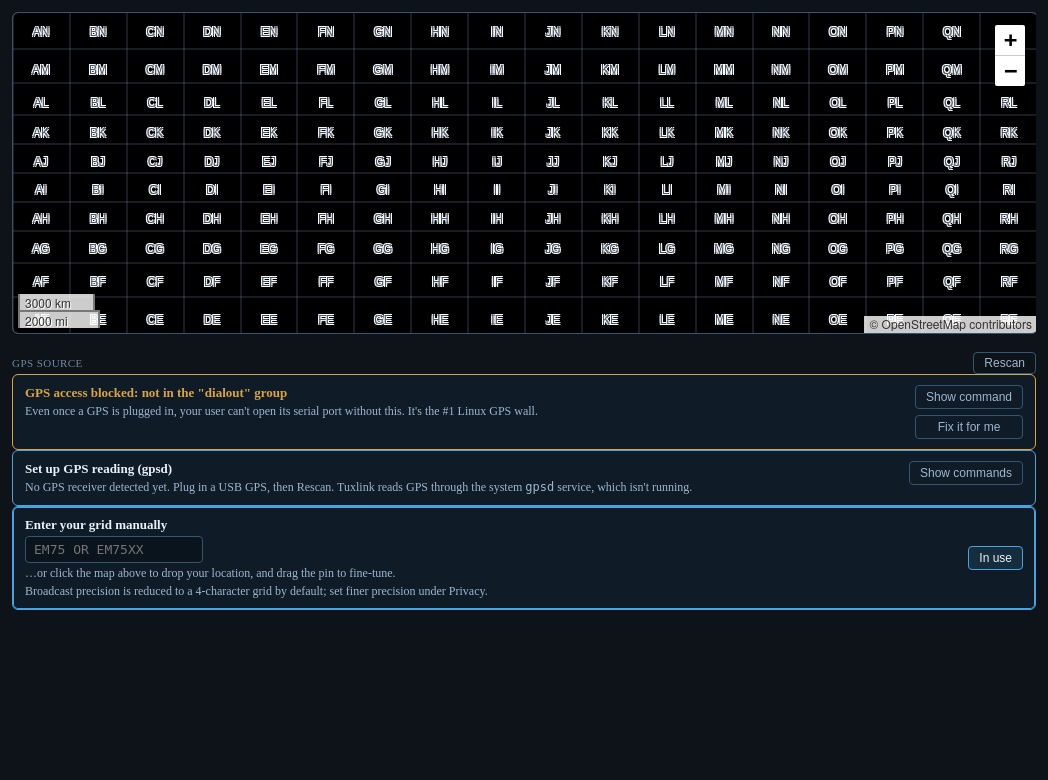
it: GpsSourcePicker › runs the dialout fix via pkexec and shows the re-login notice (tuxlink-m9ej)
This screenshot has width=1048, height=780.
Click the button with test id "gps-fix-dialout" at (969, 427), box [915,415,1023,439]
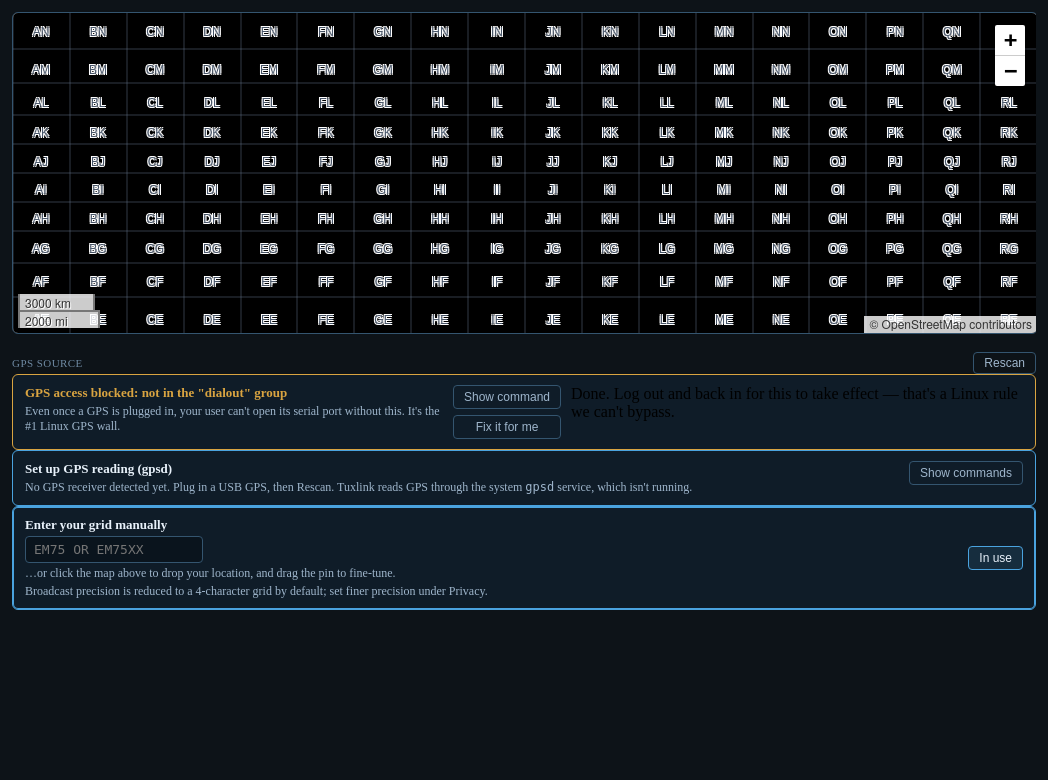
Expected: the text with test id "gps-relogin-notice" is shown, [571,385,1018,420]
